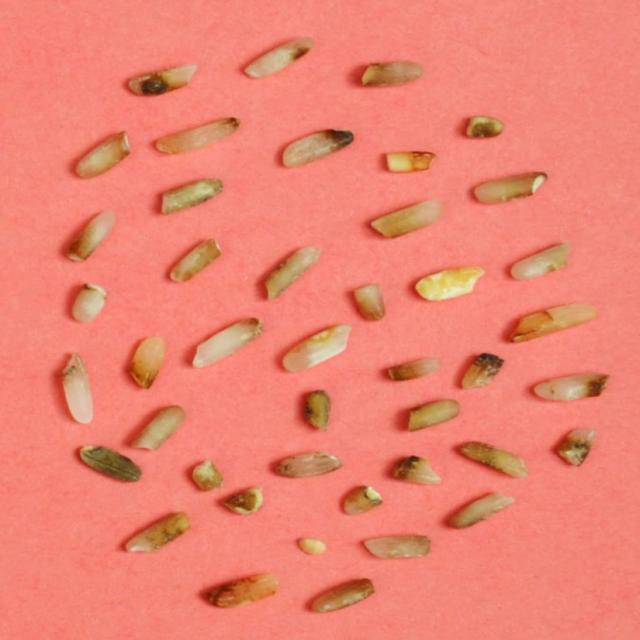Broken: (508, 302, 597, 343), (191, 317, 262, 367), (282, 324, 352, 373), (154, 118, 240, 156), (263, 246, 321, 301), (243, 37, 316, 79), (446, 489, 516, 530), (371, 200, 444, 239), (282, 129, 354, 168), (124, 511, 190, 553), (458, 440, 530, 478), (205, 572, 281, 608), (75, 131, 130, 179), (414, 266, 486, 302), (66, 210, 115, 262), (130, 406, 187, 450), (474, 172, 549, 204), (169, 238, 222, 283), (510, 242, 571, 281), (61, 353, 94, 424), (79, 445, 142, 482), (128, 63, 197, 96), (310, 578, 375, 613), (532, 373, 610, 402), (161, 178, 223, 214), (128, 336, 165, 390), (274, 449, 342, 478), (406, 399, 461, 432), (460, 352, 505, 390), (555, 427, 597, 467), (363, 535, 430, 558), (71, 282, 107, 324), (362, 62, 424, 86), (392, 455, 441, 485), (352, 284, 385, 322), (387, 359, 443, 381), (220, 486, 264, 514), (343, 485, 383, 515), (191, 458, 224, 492), (385, 152, 437, 173), (304, 389, 330, 431), (466, 116, 504, 139), (298, 537, 326, 554)
